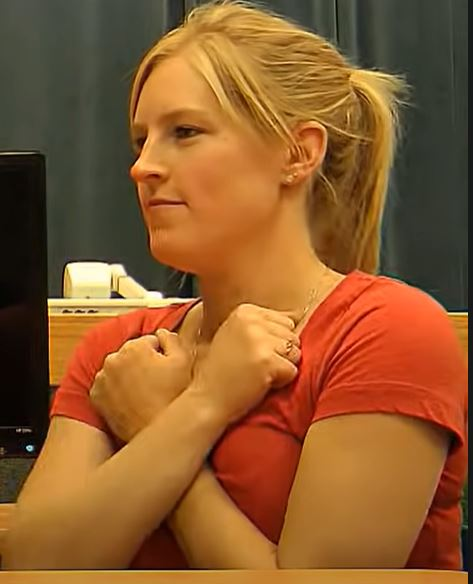Love: (77, 288, 313, 562)
